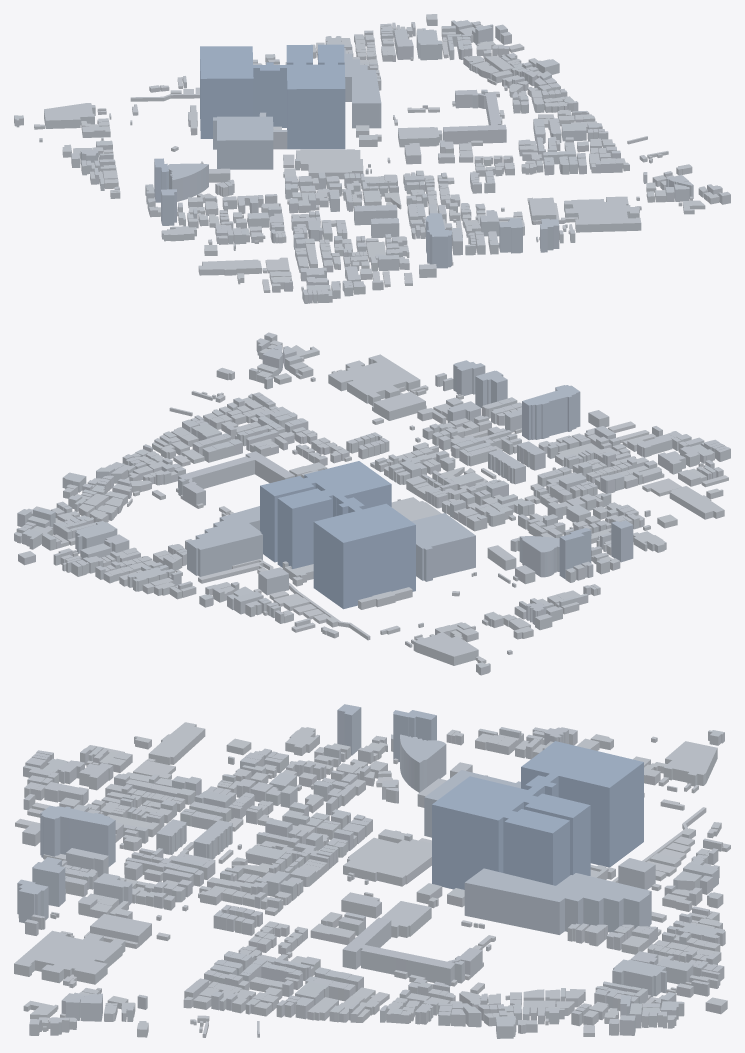
The picture shows the model from 3 angles, top to bottom: view 1: azimuth 30°, elevation 25°; view 2: azimuth 150°, elevation 25°; view 3: azimuth 270°, elevation 25°; orthographic projection. The views are drawn at different scales.
Size of the model in its own units: 527 by 63.51 by 517.
